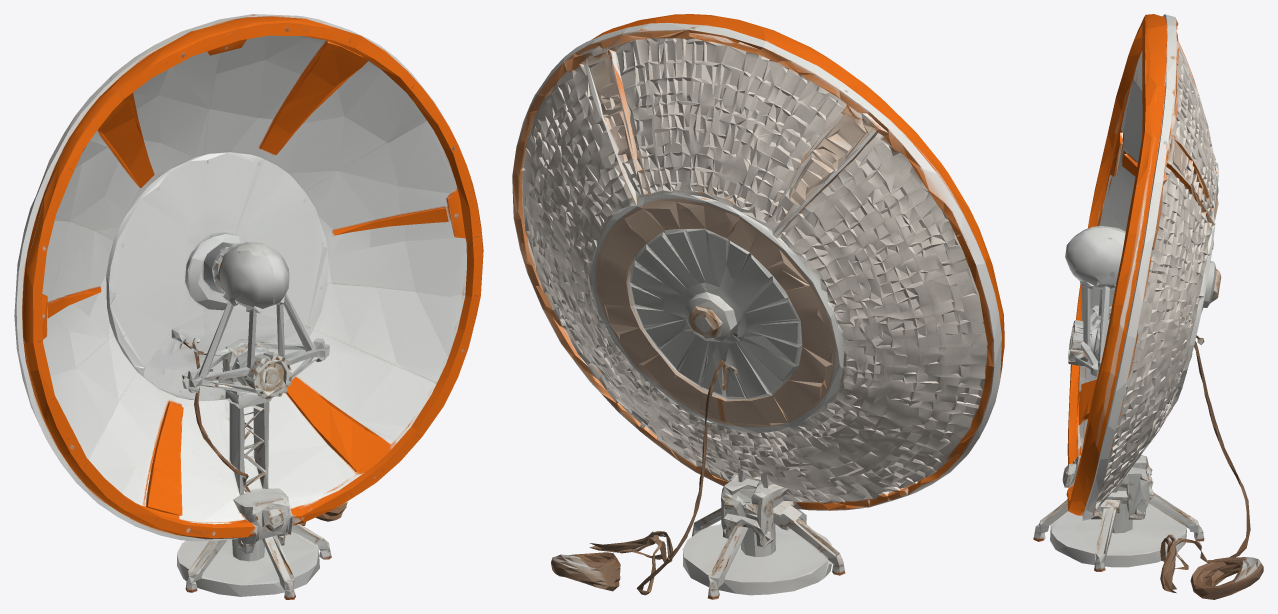
File: relay_dish.glb
The picture shows the model from 3 angles, left to right: view 1: azimuth 30°, elevation 25°; view 2: azimuth 150°, elevation 25°; view 3: azimuth 270°, elevation 25°; orthographic projection. The views are drawn at different scales.
Visible parts, largest first — view 1: Mesh_0; view 2: Mesh_0; view 3: Mesh_0.
Part boxes in pixels (<box>): Mesh_0: <box>14,14,483,599</box>; Mesh_0: <box>512,14,1004,599</box>; Mesh_0: <box>1033,14,1263,599</box>.
Bounding box in the file's own units: 1.73 × 1.9 × 0.7887.
1 material, 1 textured.
